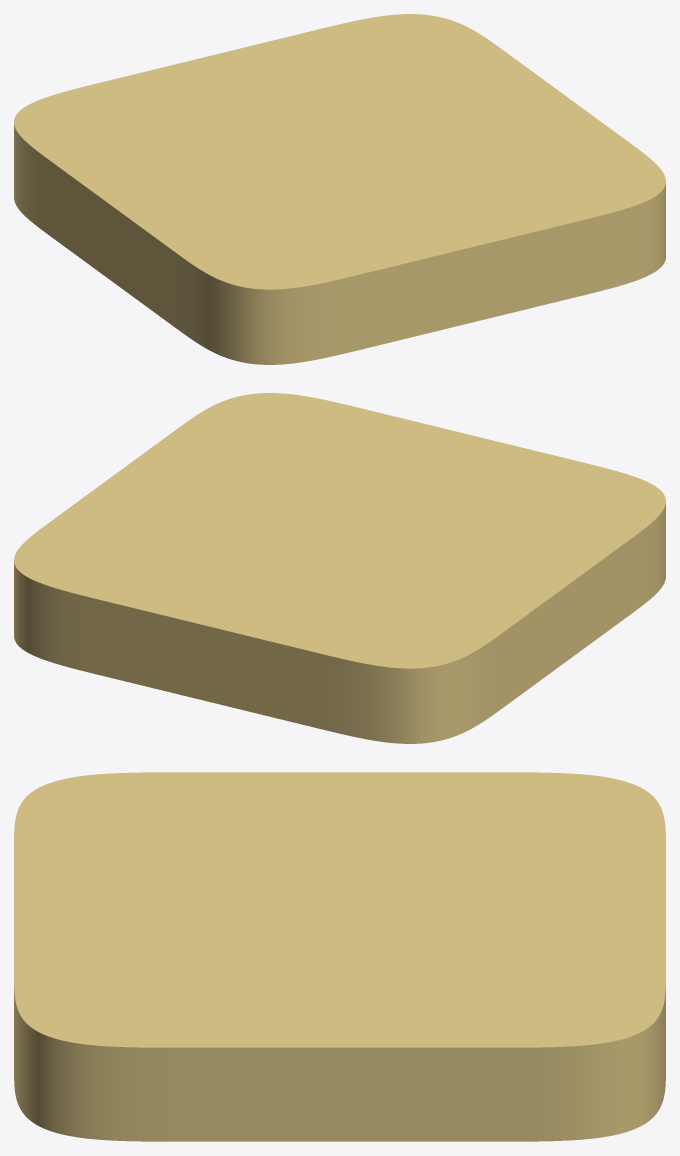
The model's file is Tile.glb.
3 views of the same model, one above another, from view 1: azimuth 30°, elevation 25°; view 2: azimuth 150°, elevation 25°; view 3: azimuth 270°, elevation 25° (orthographic). The views are drawn at different scales.
Parts seen in each view (by area): view 1: Plane.001; view 2: Plane.001; view 3: Plane.001.
Part boxes in pixels (box(x1,y1,x2,y2)): Plane.001: box(14, 14, 665, 364); Plane.001: box(14, 393, 665, 743); Plane.001: box(14, 772, 665, 1141).
Size of the model in its own units: 2 by 0.318 by 2.
